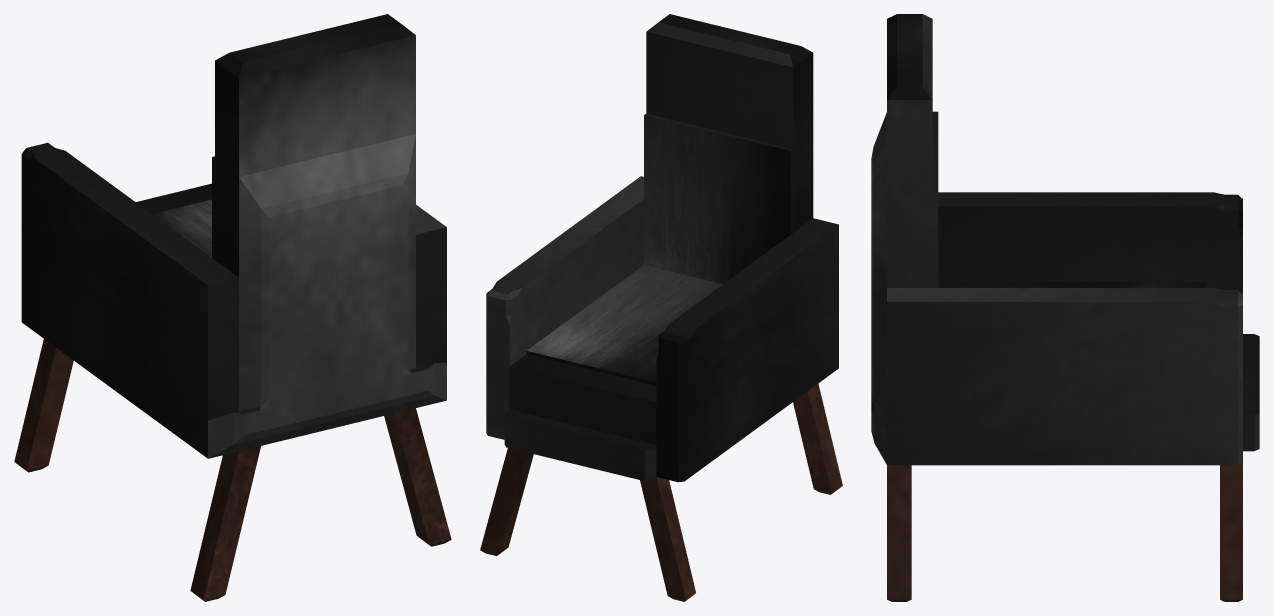
Rendered from poltrona.fbx.
3 views of the same model, side by side, from view 1: azimuth 30°, elevation 25°; view 2: azimuth 150°, elevation 25°; view 3: azimuth 270°, elevation 25° (orthographic). The views are drawn at different scales.
Visible parts, largest first — view 1: poltrona; view 2: poltrona; view 3: poltrona.
Boxes of the visible parts, left/top/right/bottom form: poltrona: left=14, top=14, right=451, bottom=601; poltrona: left=480, top=14, right=842, bottom=601; poltrona: left=871, top=14, right=1259, bottom=601.
Size of the model in its own units: 144 by 293 by 208.
Materials: 1 (1 with a texture image).
